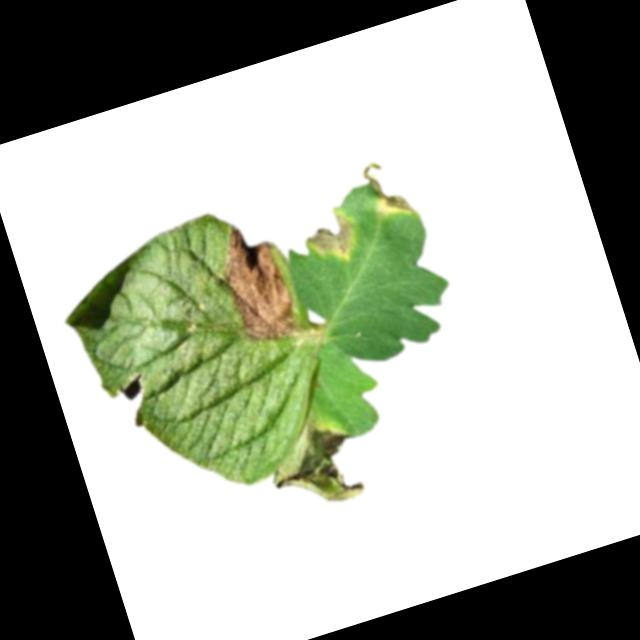Late_blight: (255, 408, 369, 522), (207, 216, 302, 351), (358, 154, 417, 228), (301, 205, 362, 272)
